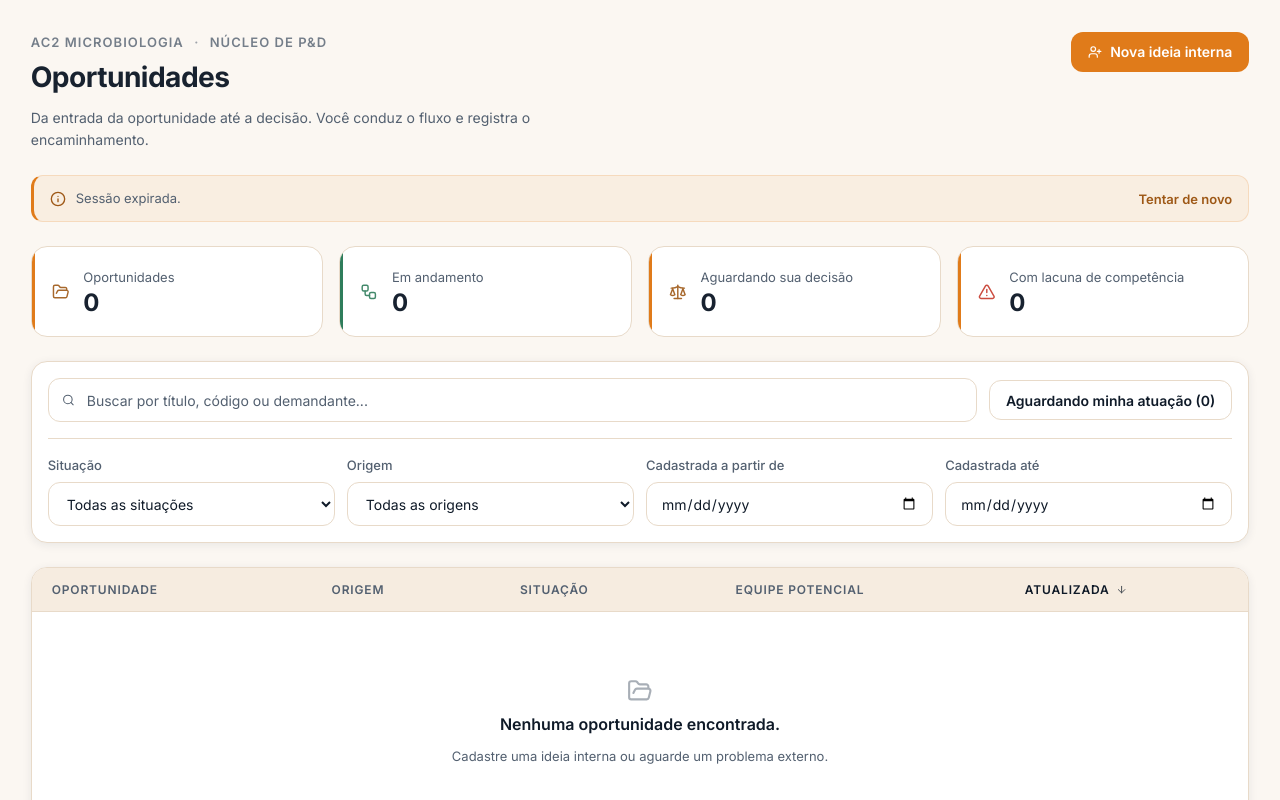
Test: OportunidadesPage › quando a API falha, diz o motivo e oferece tentar de novo
Expected: the message shows "Sessão expirada.", [76, 190, 181, 206]
Expected: the text "Bioinsumo para cana-de-açúcar" is not shown
Click the button "Tentar de novo" at (1185, 199), box [1138, 191, 1232, 207]
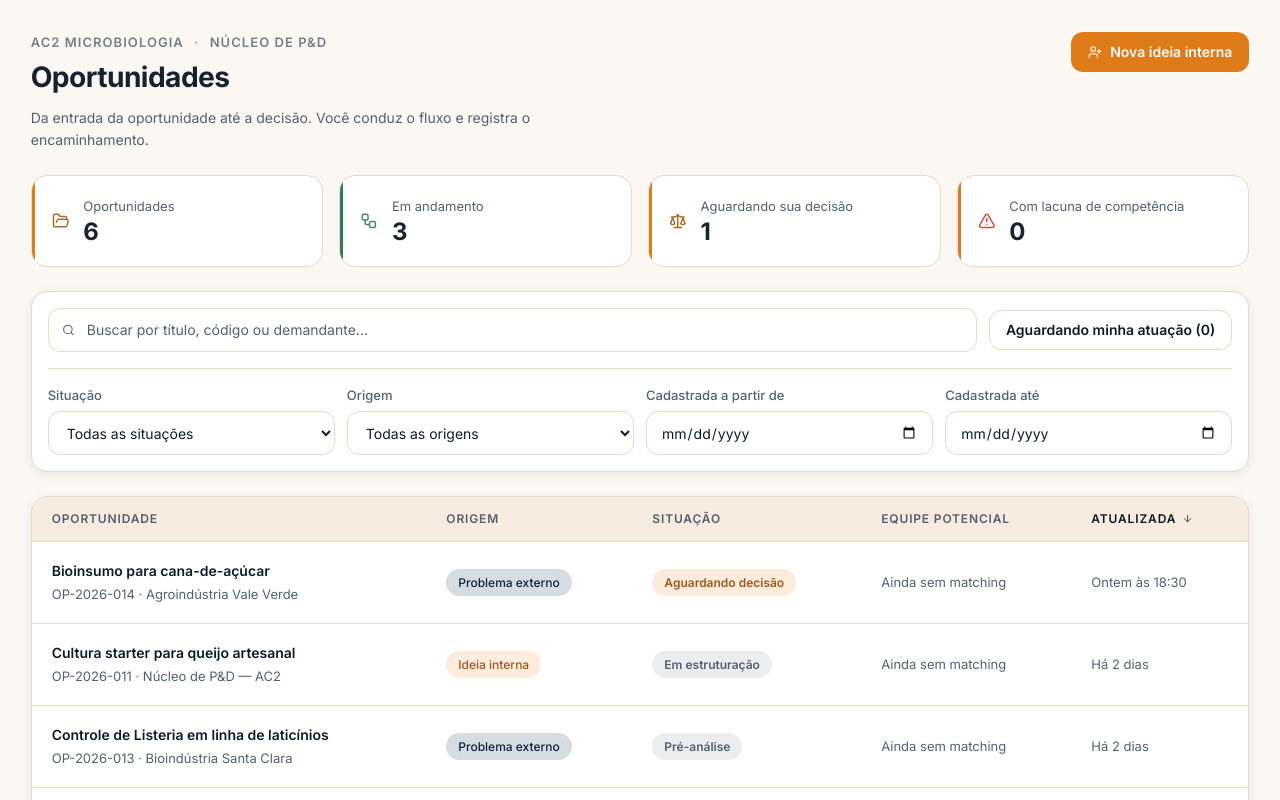
Now the text "Bioinsumo para cana-de-açúcar" is shown, box [52, 562, 270, 578]
Now the message "Sessão expirada. Tentar de novo" is gone
